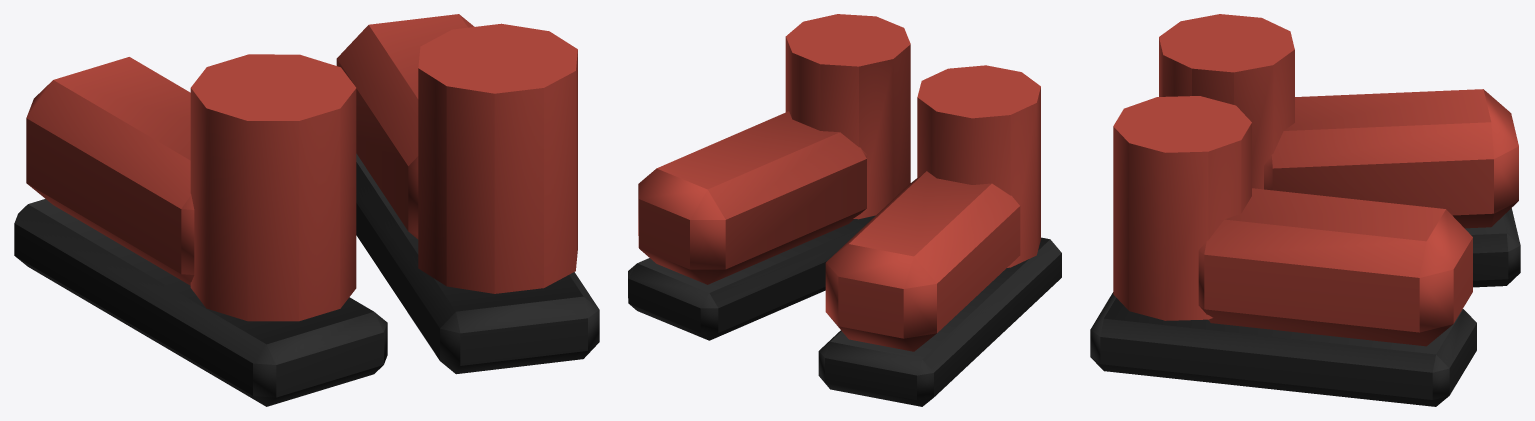
Rendered from small_boots.glb.
3 views of the same model, side by side, from view 1: azimuth 30°, elevation 25°; view 2: azimuth 150°, elevation 25°; view 3: azimuth 270°, elevation 25° (orthographic). The views are drawn at different scales.
Parts seen in each view (by area): view 1: static; view 2: static; view 3: static.
Boxes of the visible parts, x1,y1,x2,y2 form: static: [14, 14, 599, 406]; static: [628, 14, 1061, 406]; static: [1090, 14, 1520, 406].
Size of the model in its own units: 0.1831 by 0.11 by 0.1857.
